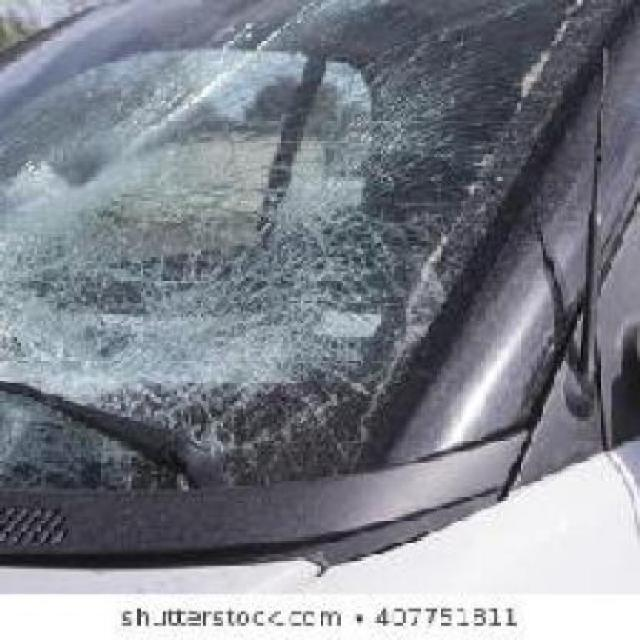damaged-windscreen: (2, 0, 621, 489)
